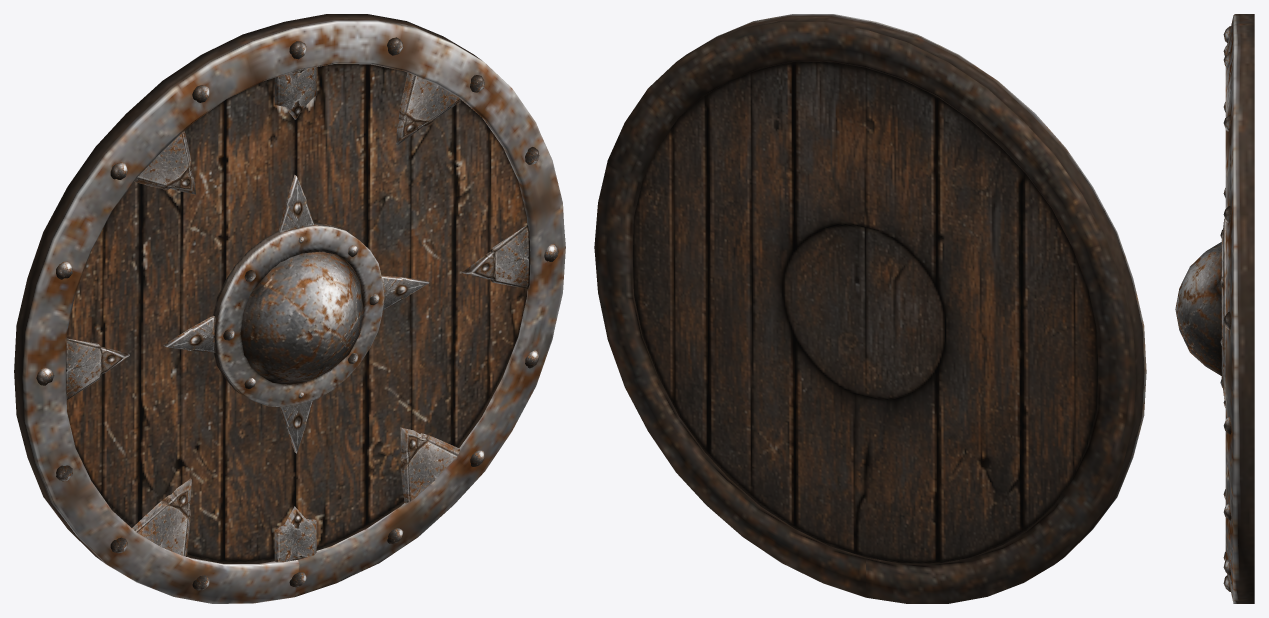
File: SM_H1RoundShield.fbx
The picture shows the model from 3 angles, left to right: view 1: azimuth 30°, elevation 25°; view 2: azimuth 150°, elevation 25°; view 3: azimuth 270°, elevation 25°; orthographic projection. The views are drawn at different scales.
Parts seen in each view (by area): view 1: SM_H1RoundShield; view 2: SM_H1RoundShield; view 3: SM_H1RoundShield.
Part boxes in pixels (<box>): SM_H1RoundShield: <box>14,14,565,603</box>; SM_H1RoundShield: <box>594,14,1146,603</box>; SM_H1RoundShield: <box>1175,14,1254,603</box>.
Size of the model in its own units: 50.84 by 50.96 by 6.86.
